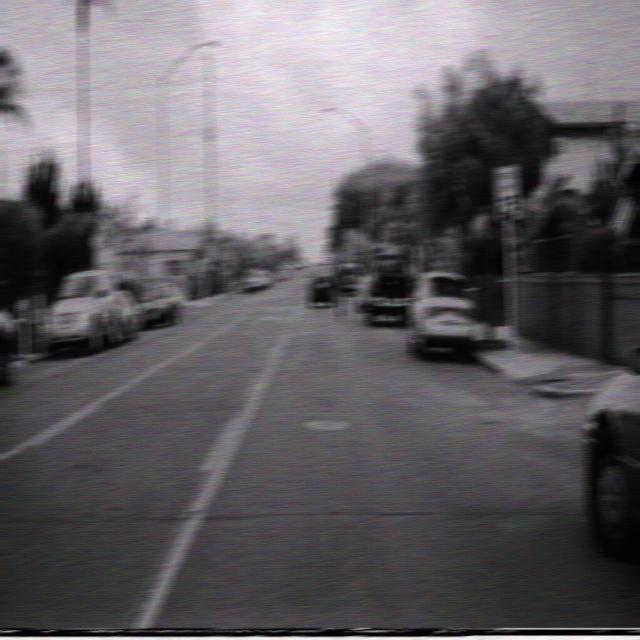speedLimit25: (493, 162, 521, 222)
